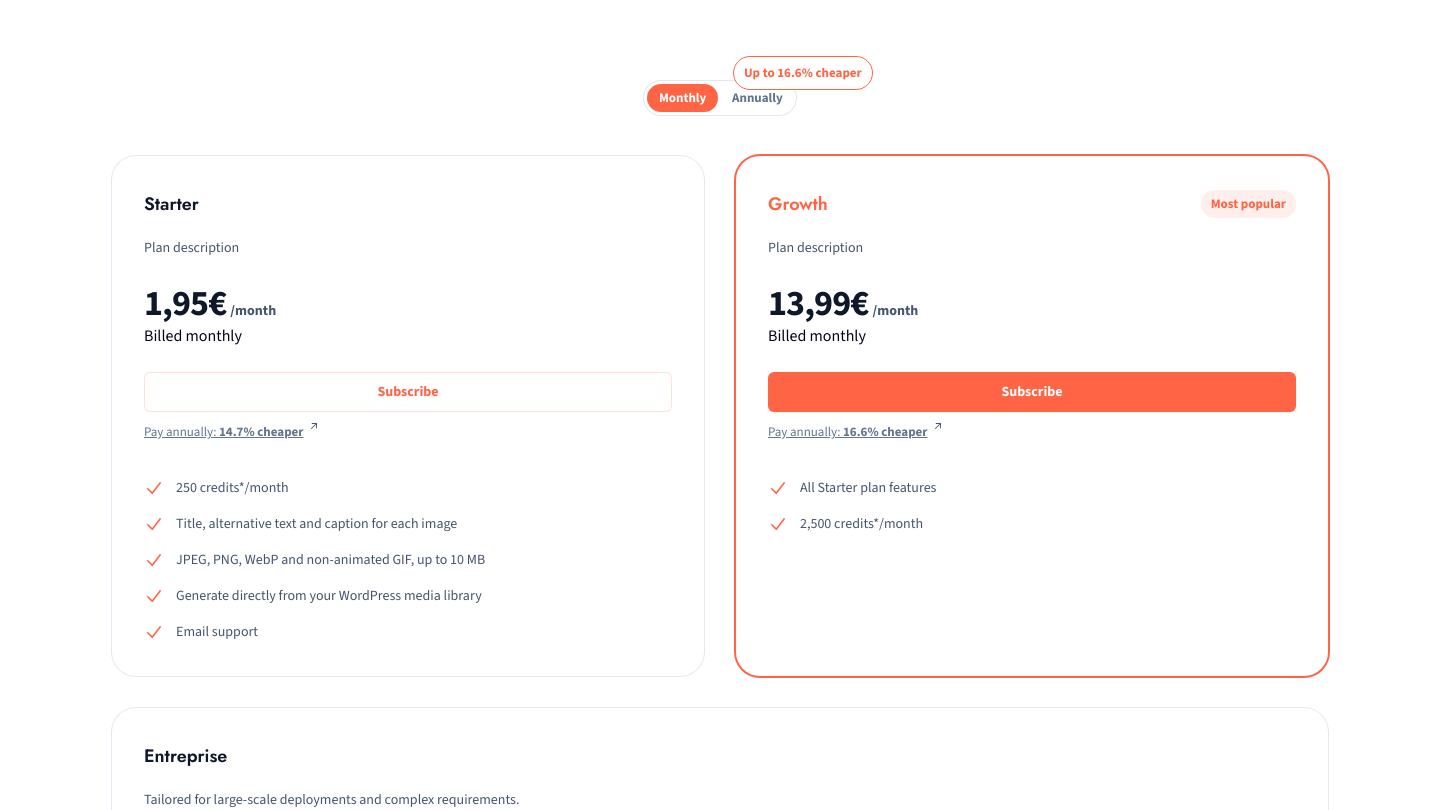
Test: Plans page promises › shows the same saving with the frequency toggle
What coordinates should you click on to do the following:
click the radio button with test id "frequency-option-annually"
I would click on:
 (757, 98)
Its box is left=722, top=84, right=793, bottom=112.
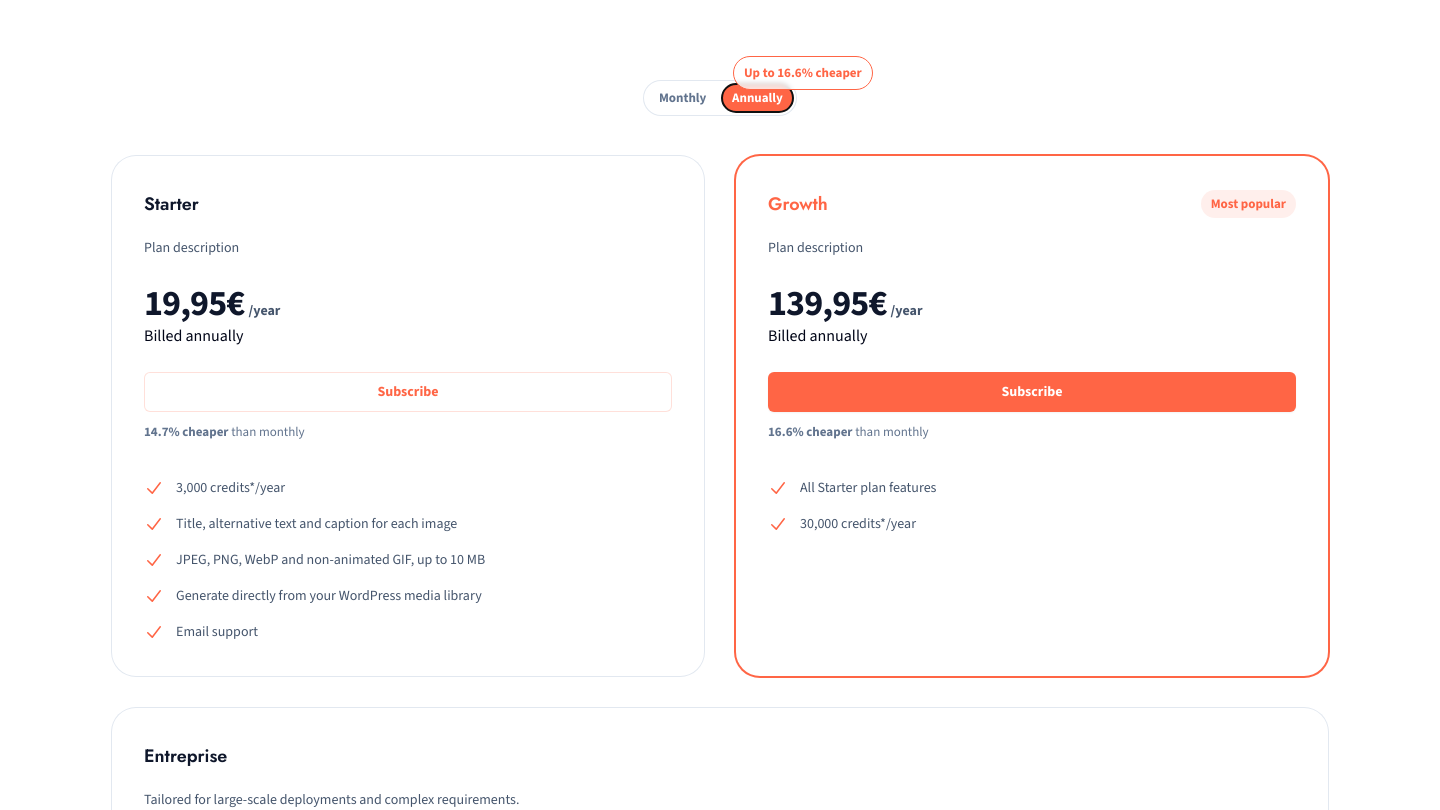
Check: the text "16.6% cheaper" is shown, box left=768, top=423, right=852, bottom=441
Check: the element with test id "plan-4" is shown, box left=736, top=156, right=1328, bottom=676
